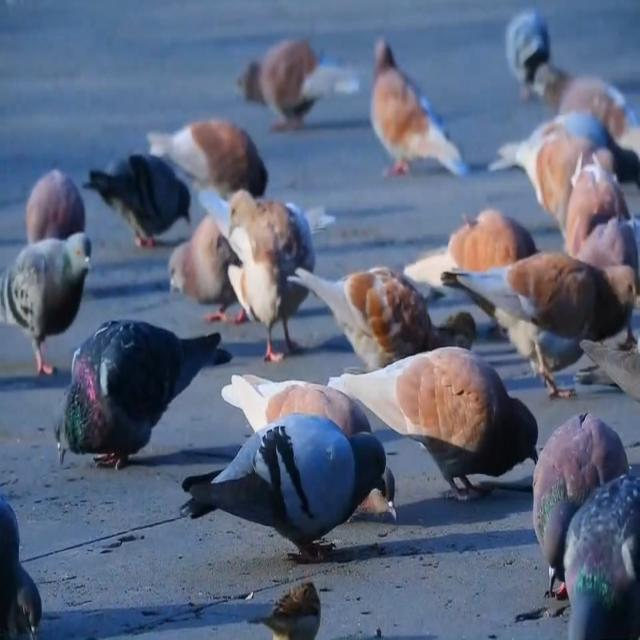bird: (328, 342, 552, 513), (173, 401, 400, 568), (432, 238, 640, 407), (216, 368, 411, 546), (38, 308, 236, 481), (284, 250, 487, 380), (160, 190, 338, 330), (200, 180, 318, 374), (524, 394, 631, 606), (353, 28, 488, 187), (409, 202, 575, 331), (138, 92, 290, 212), (0, 218, 100, 390), (226, 29, 371, 147), (552, 453, 640, 639), (82, 140, 199, 268), (565, 134, 640, 294), (536, 55, 640, 162), (539, 105, 640, 191), (496, 126, 582, 225), (0, 487, 55, 640), (12, 159, 84, 261), (497, 8, 555, 112), (252, 582, 331, 640)
